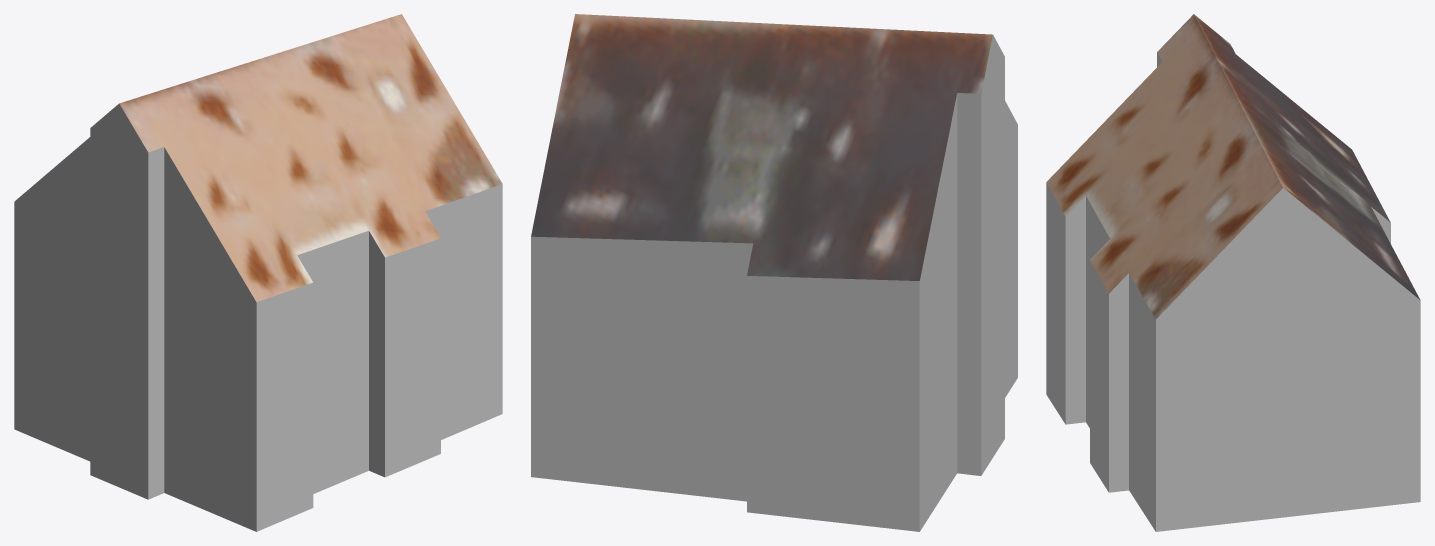
Rendered from DEBW_0010007TvkR.gltf.
3 views of the same model, side by side, from view 1: azimuth 30°, elevation 25°; view 2: azimuth 150°, elevation 25°; view 3: azimuth 270°, elevation 25° (orthographic). The views are drawn at different scales.
Parts seen in each view (by area): view 1: Z_UP; view 2: Z_UP; view 3: Z_UP.
Part boxes in pixels (x1,y1,x2,y2): Z_UP: (14,14,502,531); Z_UP: (531,14,1017,531); Z_UP: (1046,14,1420,531).
Size of the model in its own units: 19.36 by 18.59 by 17.8.
2 materials, 1 textured.
